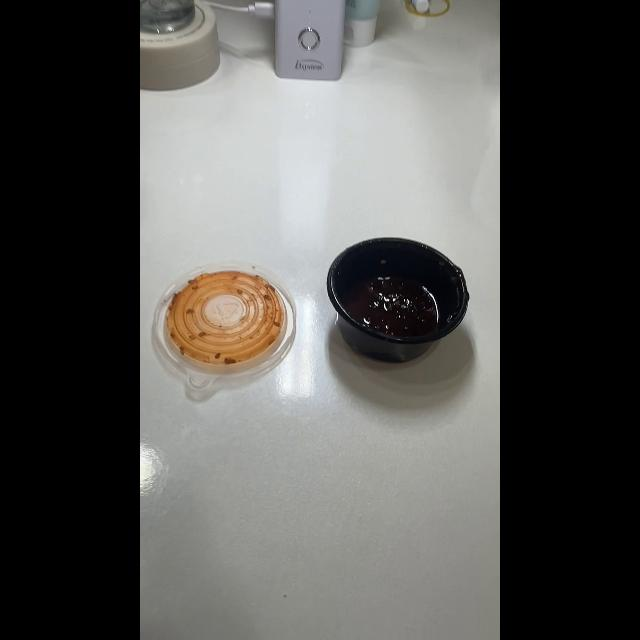dirty: (154, 258, 306, 399), (336, 234, 470, 366)
